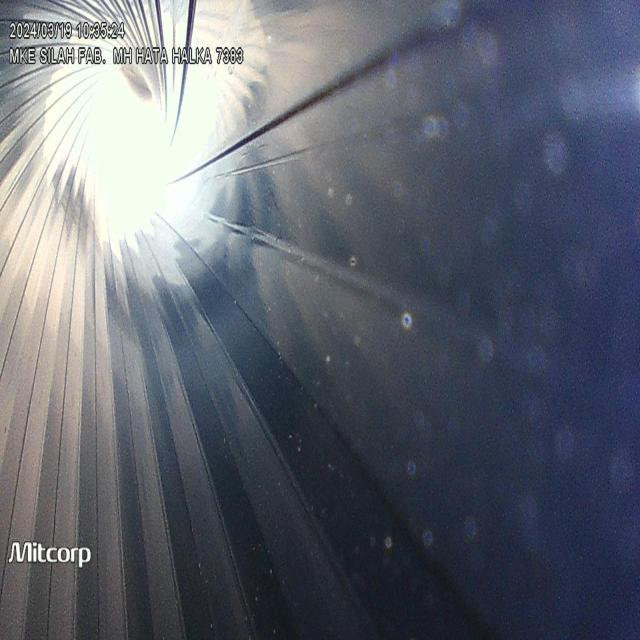hata_2.2: (394, 396, 440, 571), (317, 174, 374, 294), (394, 293, 418, 355)
